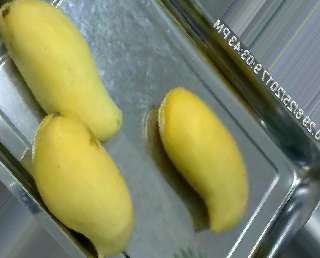Mango: (0, 1, 123, 142), (30, 110, 133, 254), (158, 86, 247, 232)
